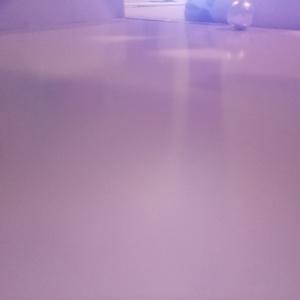alive_ball: (226, 1, 254, 28)
